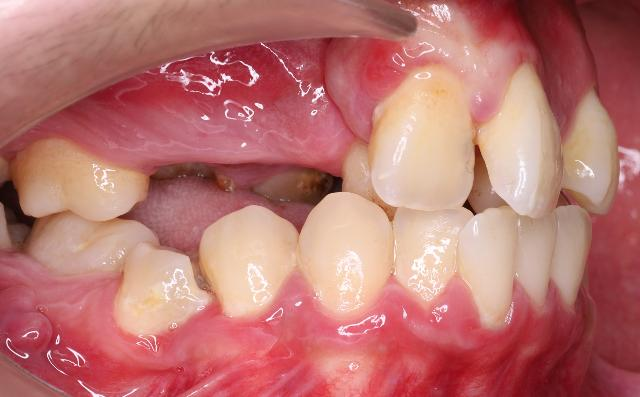molar class I: (18, 143, 150, 275)
